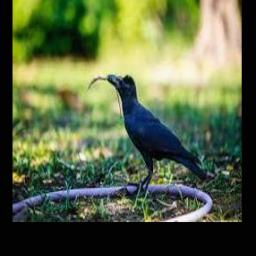Crow: (107, 75, 212, 189)
